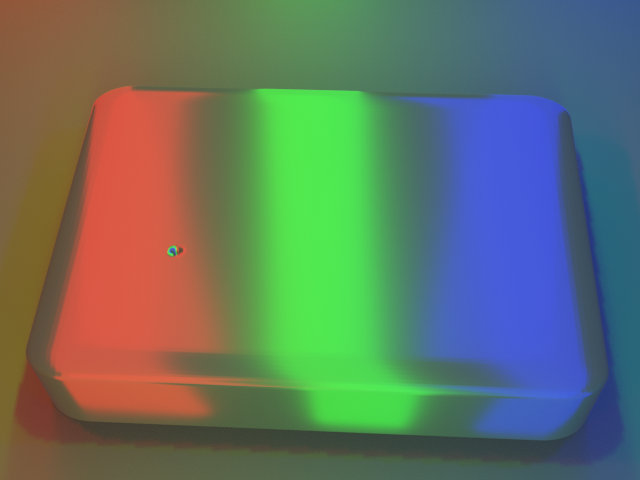dent: (141, 233, 178, 276)
